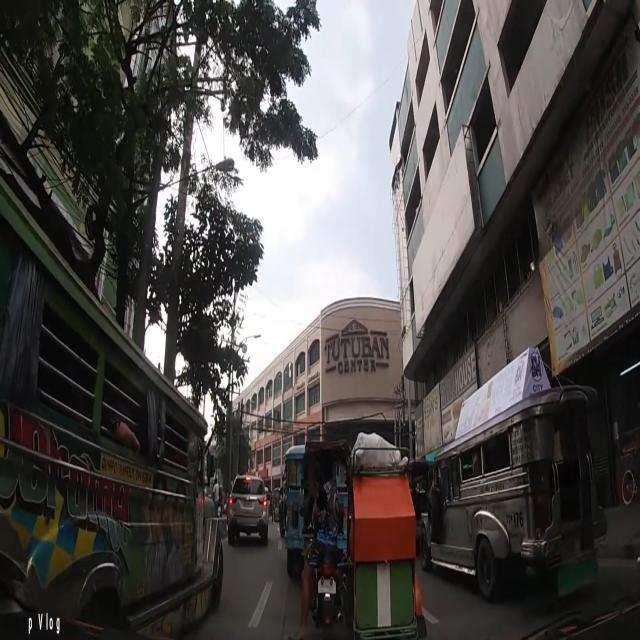car: (228, 472, 268, 544)
jeepney: (0, 174, 226, 640), (416, 344, 607, 602), (285, 443, 352, 581)
tricycle: (304, 430, 428, 640)
